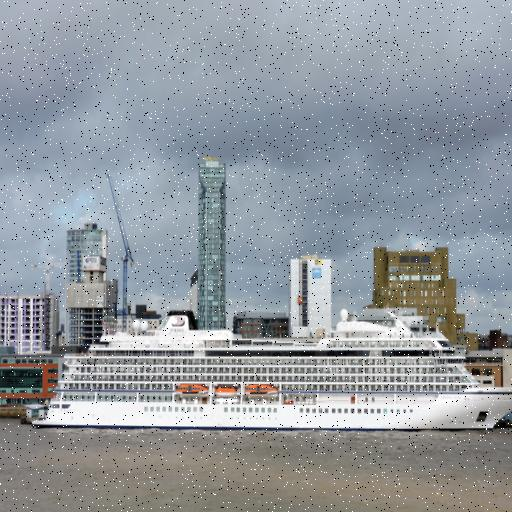cruises: (17, 303, 512, 438)
